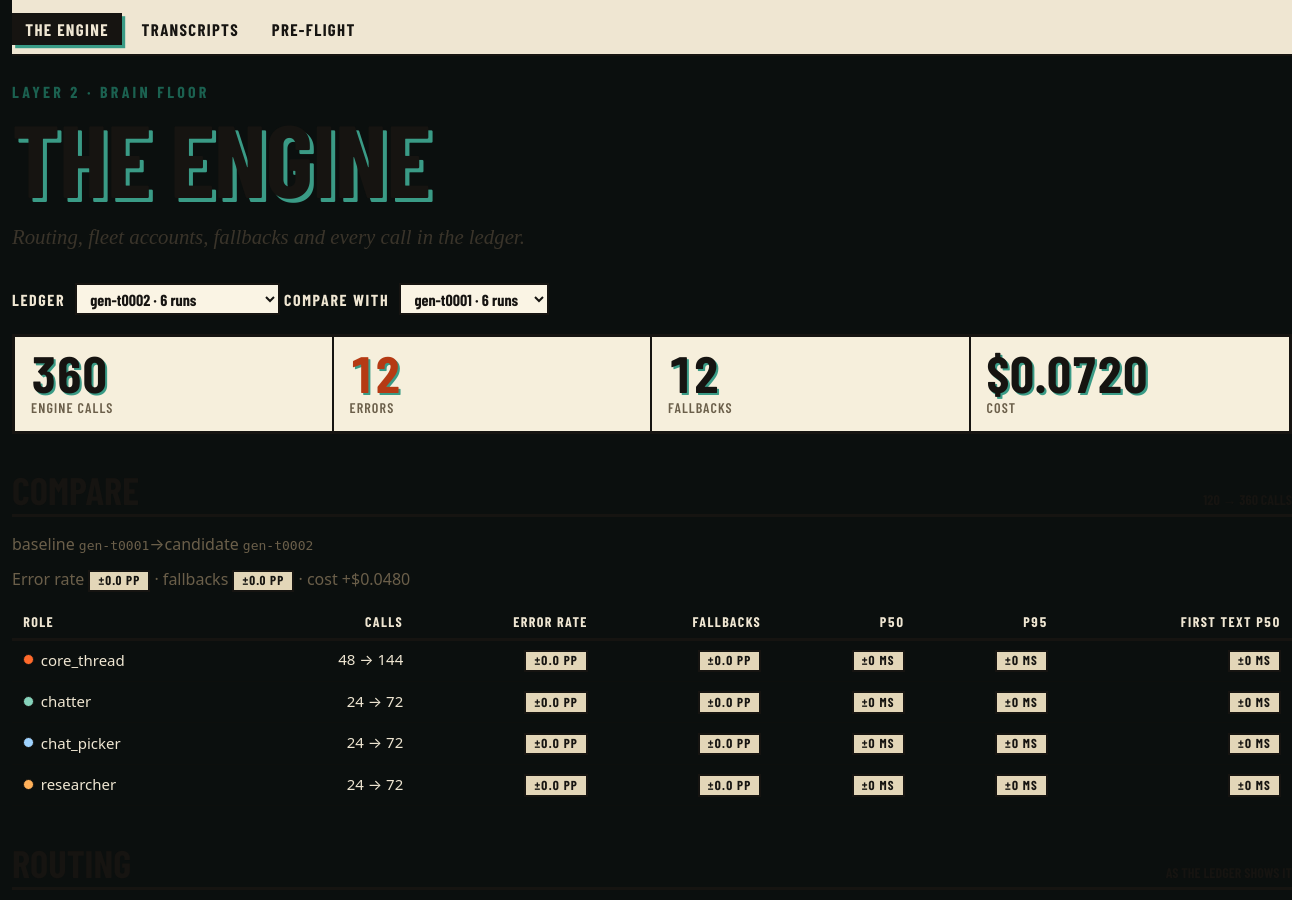
Test: brain/engine › compares nothing for the daemon ledger until a baseline is picked
Select "The daemon's engine ledger" in the 1st dropdown named "Ledger" at {"x": 177, "y": 299}, box [75,283,280,315]
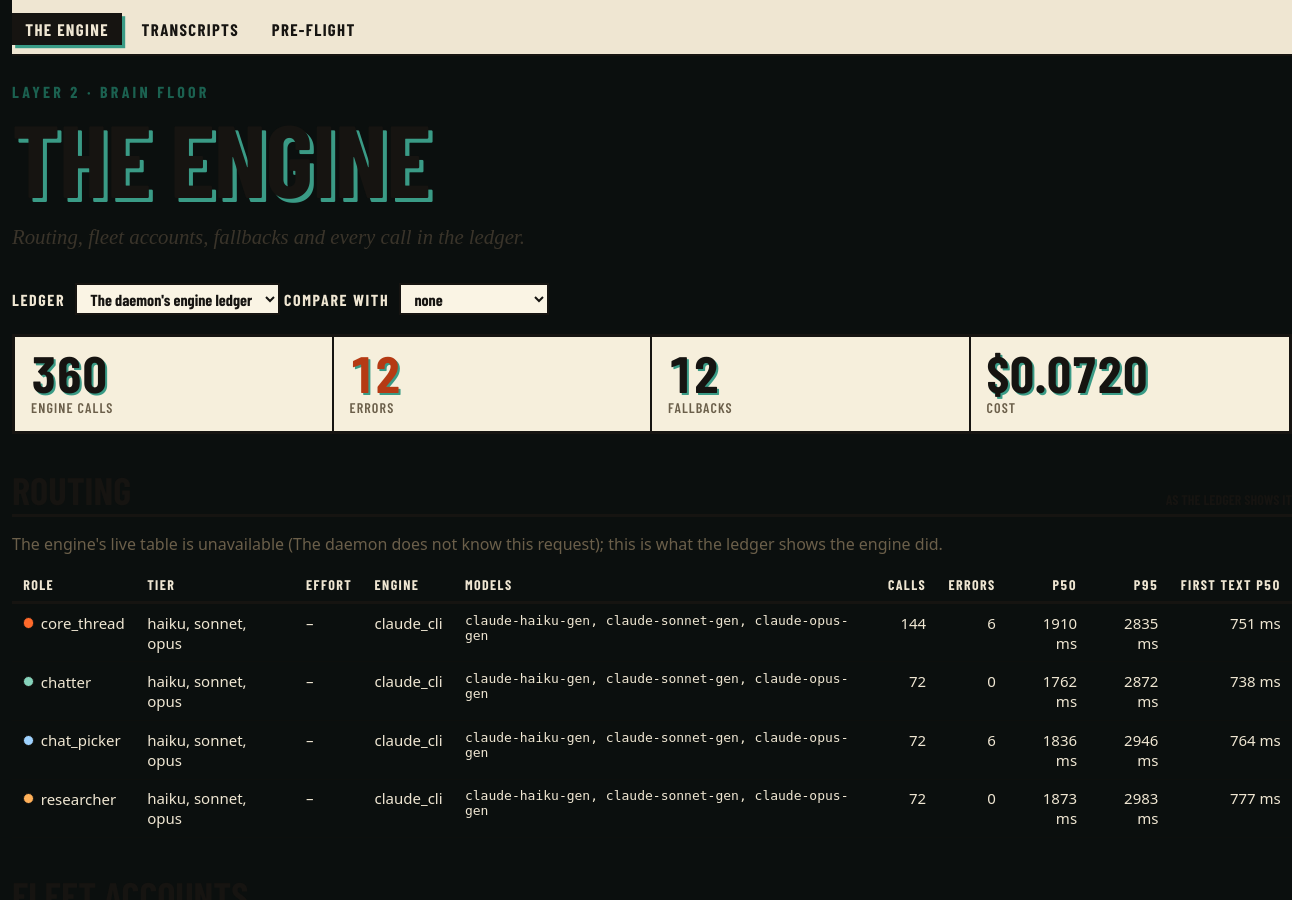
Check: the 2nd dropdown named "Compare with" shows "none"
Select "gen-t0001 · 6 runs" in the 2nd dropdown named "Compare with" at {"x": 474, "y": 299}, box [399,283,549,315]
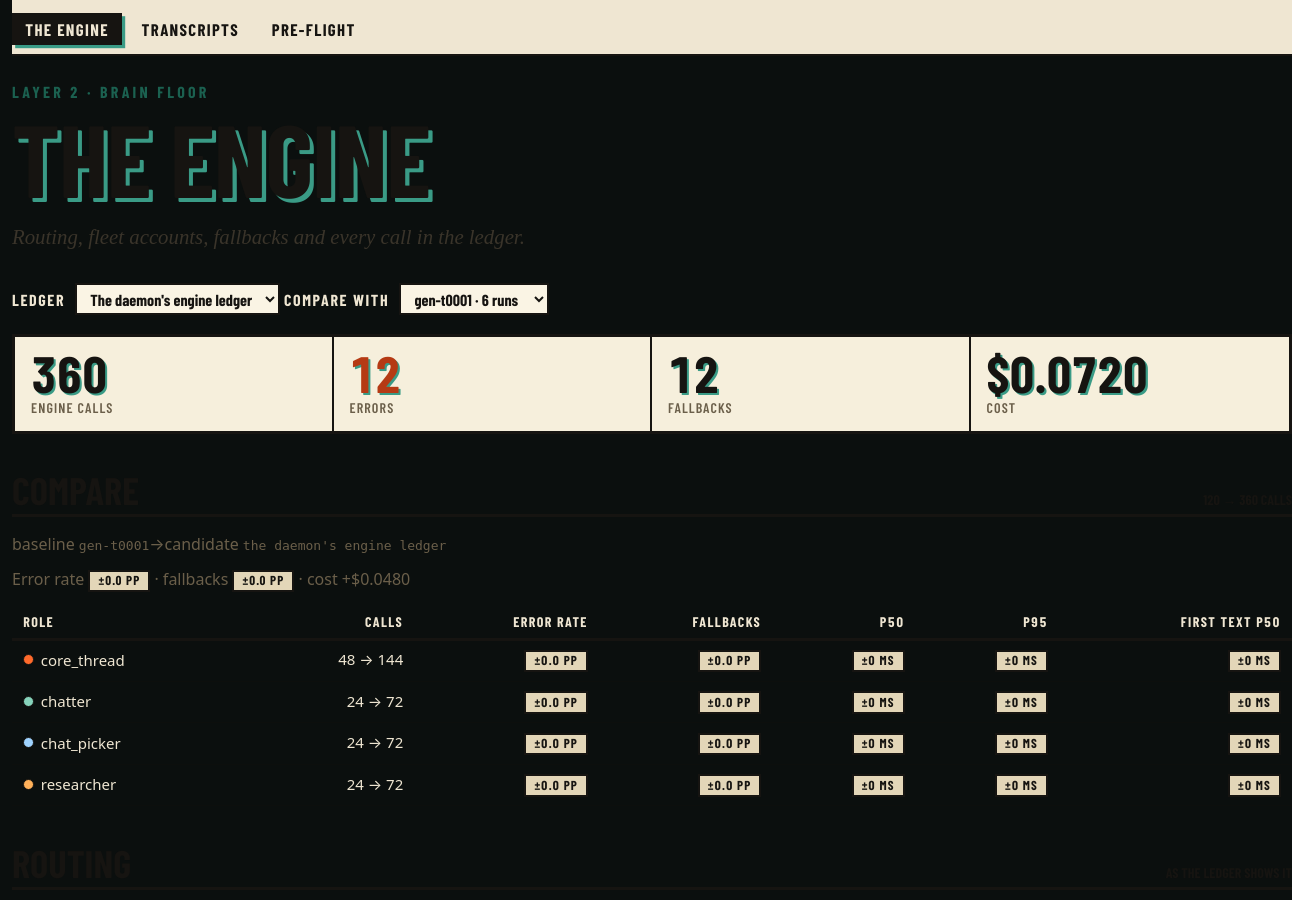
Check: the element that starts with "baseline" shows "baseline gen-t0001", box [12,533,1291,806]
Check: the element that starts with "baseline" shows "candidate the daemon's engine ledger", box [12,533,1291,806]
